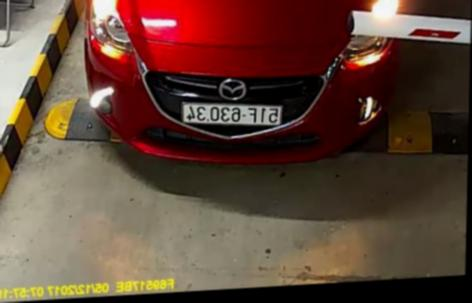License_Plate: (175, 98, 287, 134)
